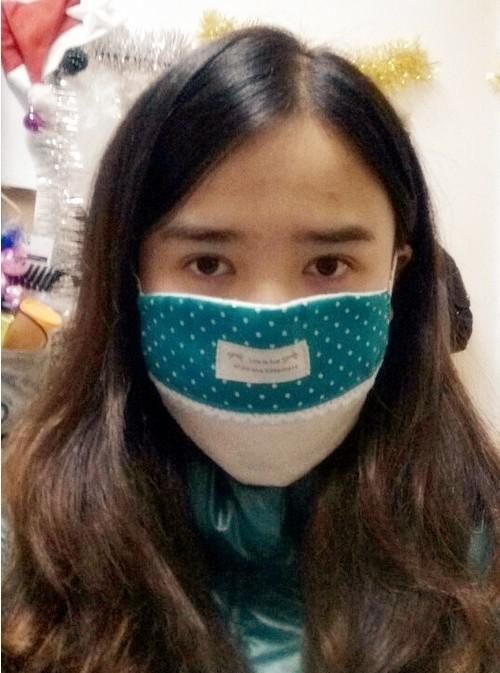OK: (134, 213, 407, 486)
